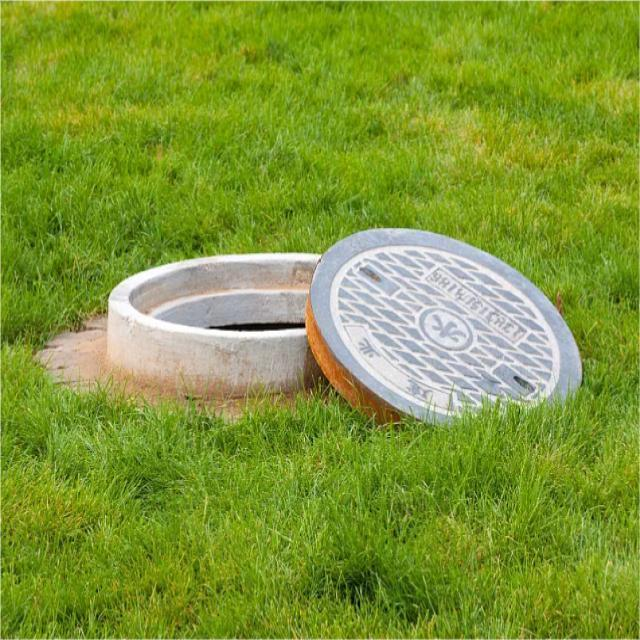manhole: (108, 254, 318, 395)
